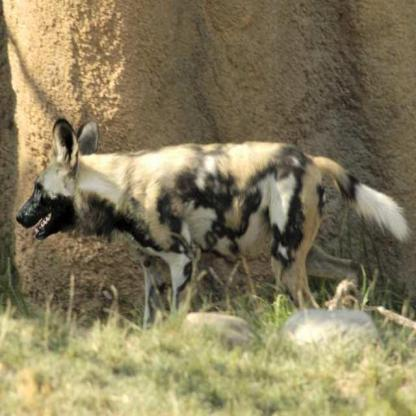African_hunting_dog: (13, 114, 411, 318)
